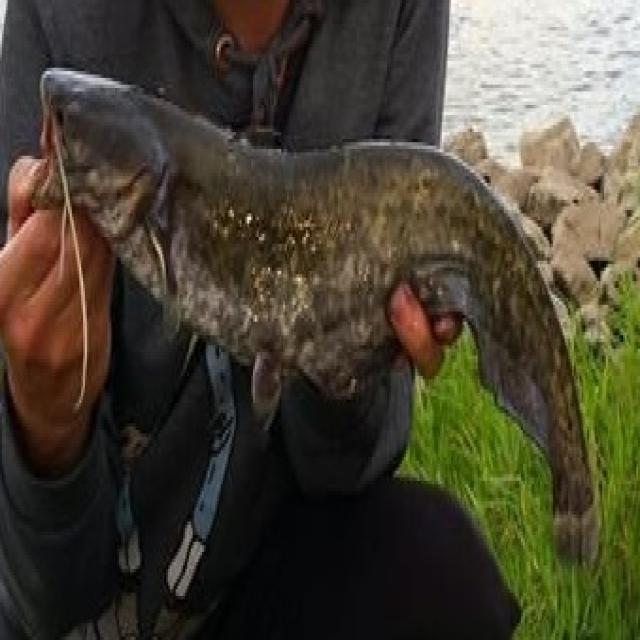Catfish: (39, 55, 624, 603)
